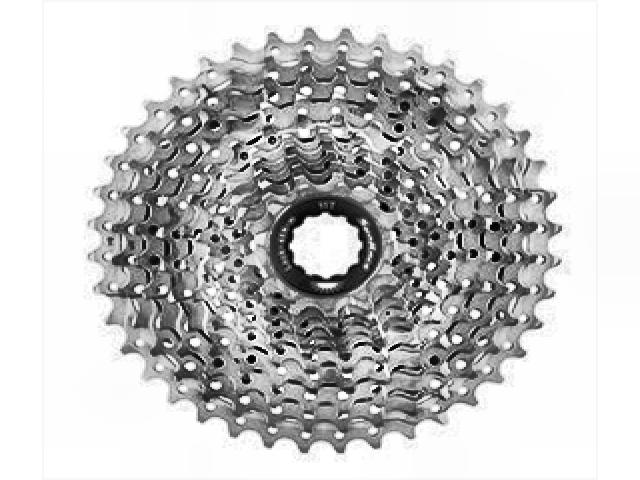cassette: (81, 23, 565, 457)
